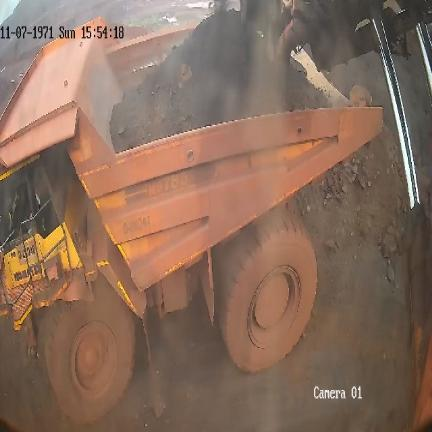pile: (109, 7, 332, 153), (321, 128, 412, 283)
